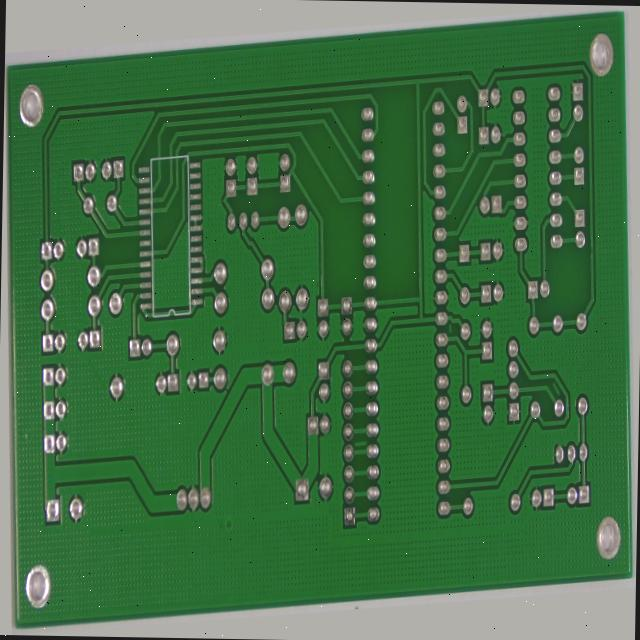spurious_copper: (349, 447, 365, 471), (552, 408, 567, 430), (448, 334, 456, 351)
